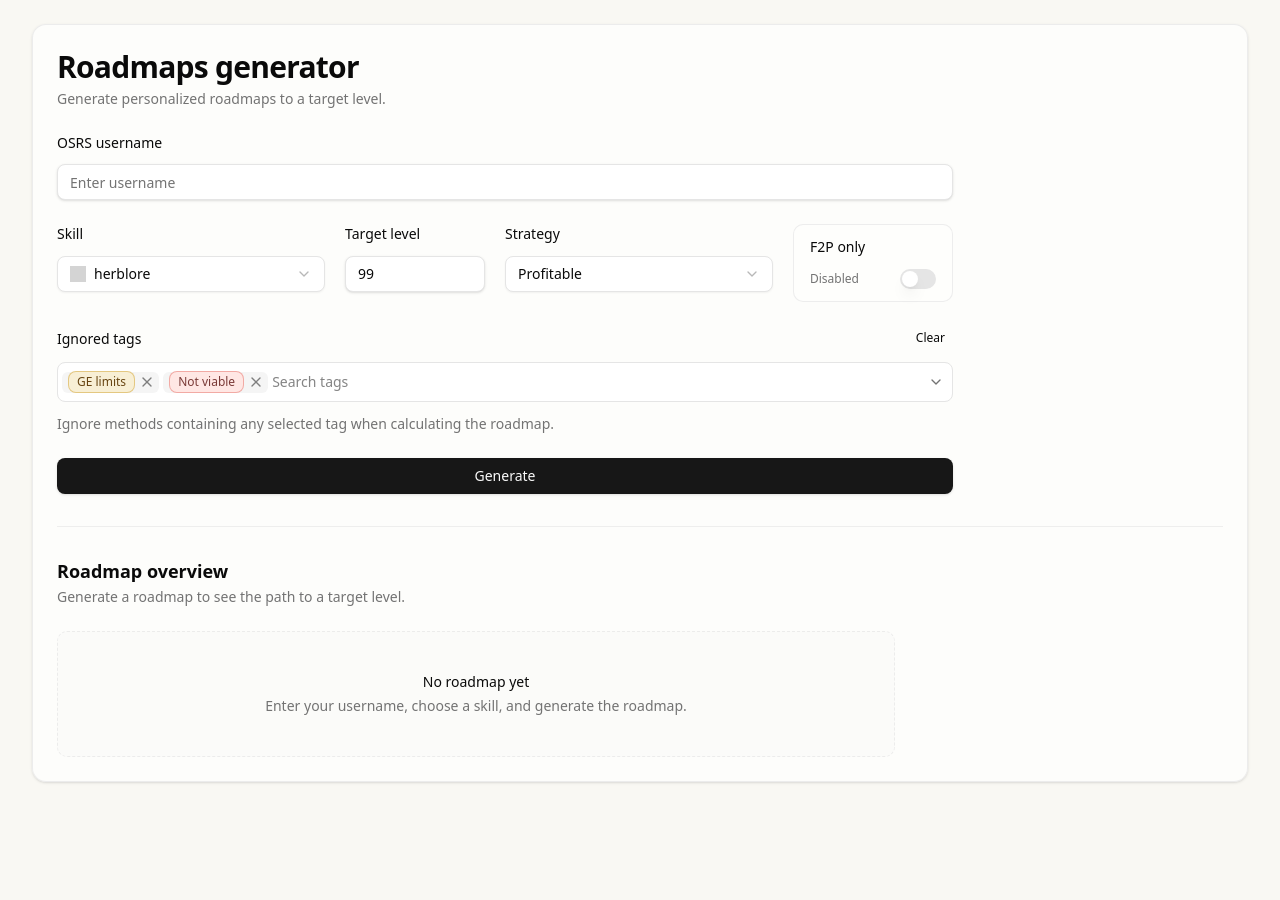
RoadmapsPage › shows roadmap material warnings when totals are unavailable
This screenshot has width=1280, height=900.
In the field labelled "OSRS username": (505, 182) [57,164,953,200], type "carmixtank"
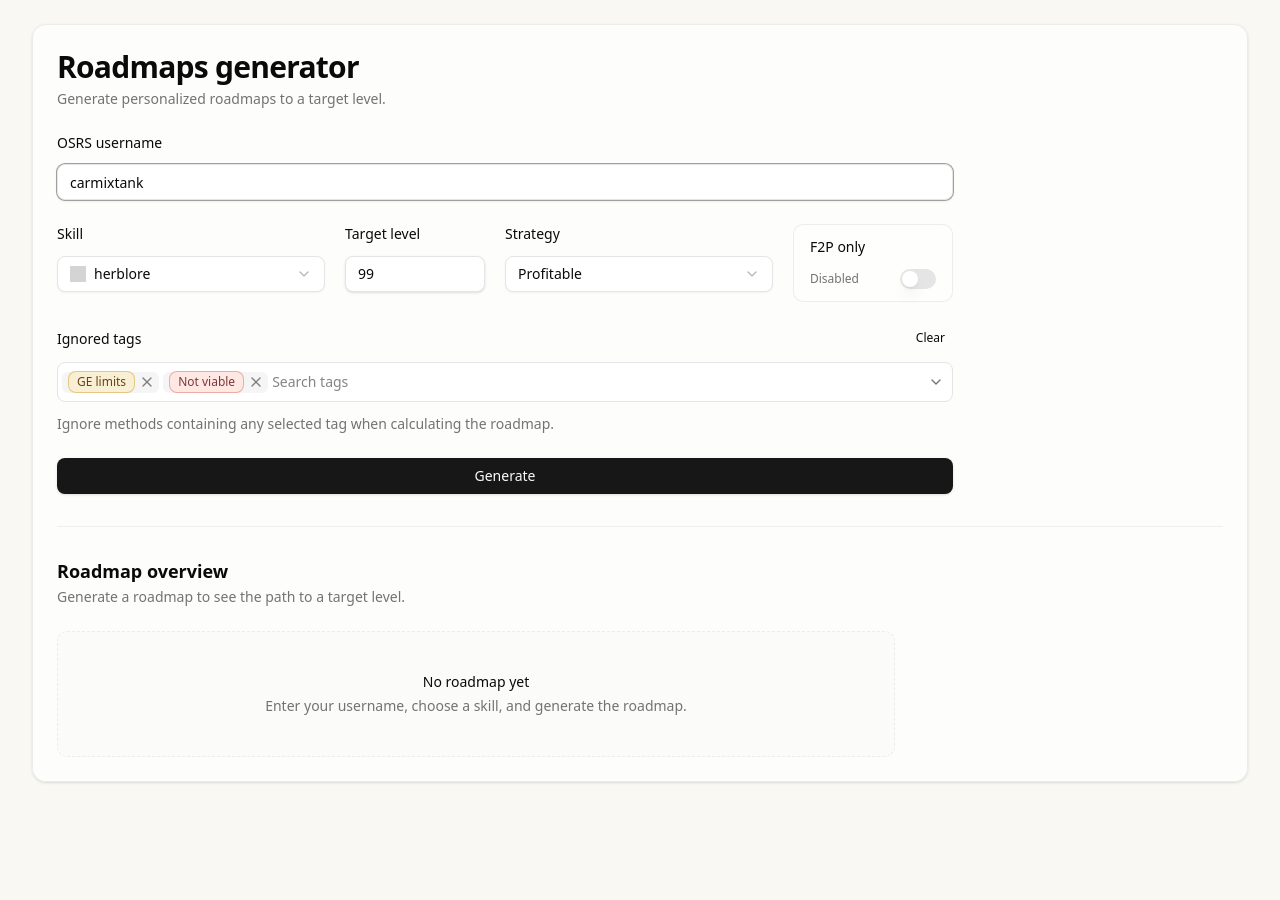
Click the button "Generate": click(505, 476) [57,458,953,494]
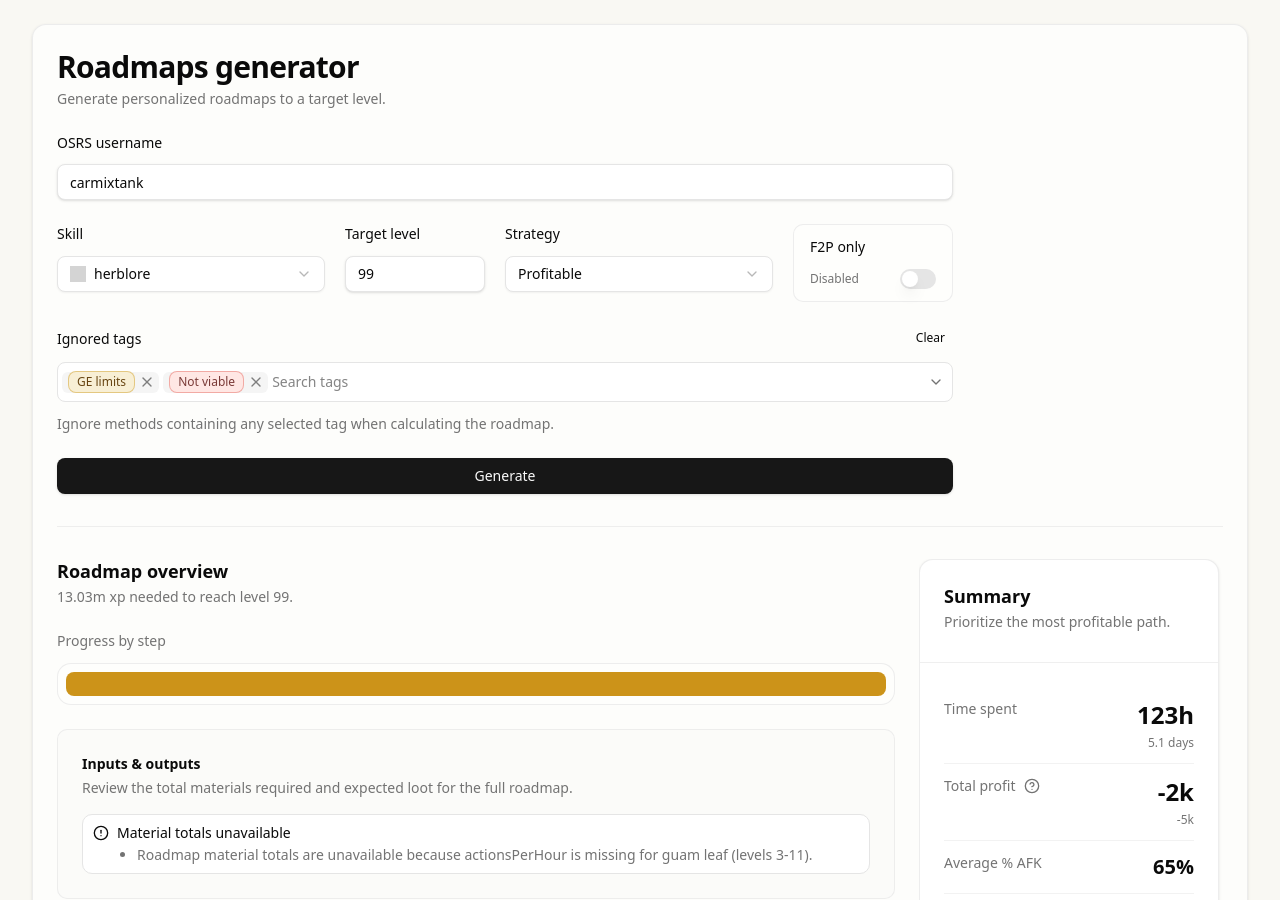
Now the text "Material totals unavailable" is shown, box [117,823,291,842]
Now the list item "Roadmap material totals are unavailable because actionsPerHour is missing for guam leaf (levels 3-11)." is shown, box [137,845,812,864]
